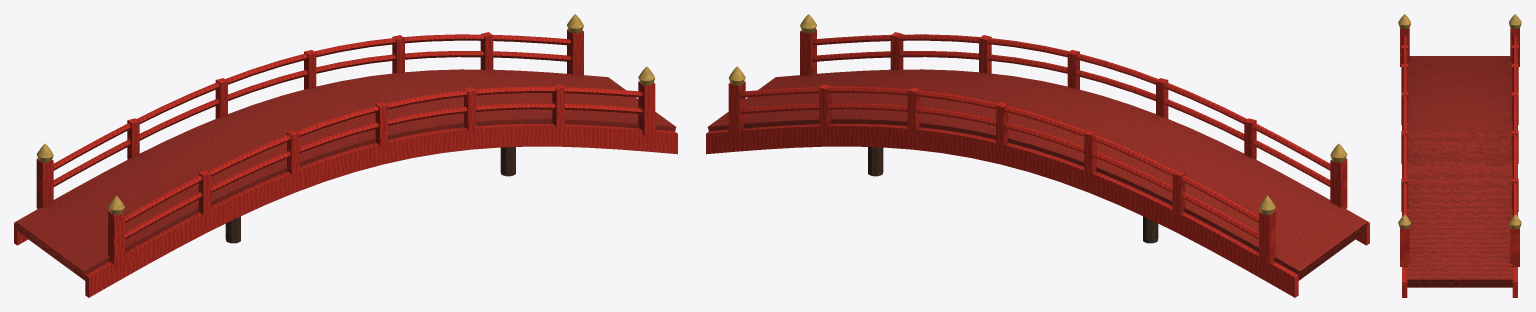
File: arched_bridge.fbx
The picture shows the model from 3 angles, left to right: view 1: azimuth 30°, elevation 25°; view 2: azimuth 150°, elevation 25°; view 3: azimuth 270°, elevation 25°; orthographic projection. The views are drawn at different scales.
Visible parts, largest first — view 1: arched_bridge; view 2: arched_bridge; view 3: arched_bridge.
Part boxes in pixels (x1,y1,x2,y2): arched_bridge: [14, 14, 677, 297]; arched_bridge: [706, 14, 1369, 297]; arched_bridge: [1398, 14, 1521, 297].
Size of the model in its own units: 3018 by 585 by 702.
1 material, 1 textured.
